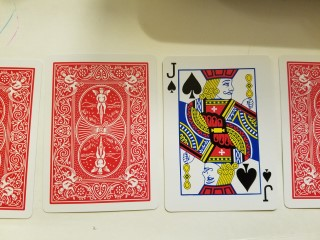JackOfSpades: (163, 55, 279, 212)
